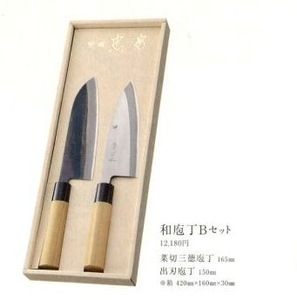knief: (46, 64, 143, 278)
